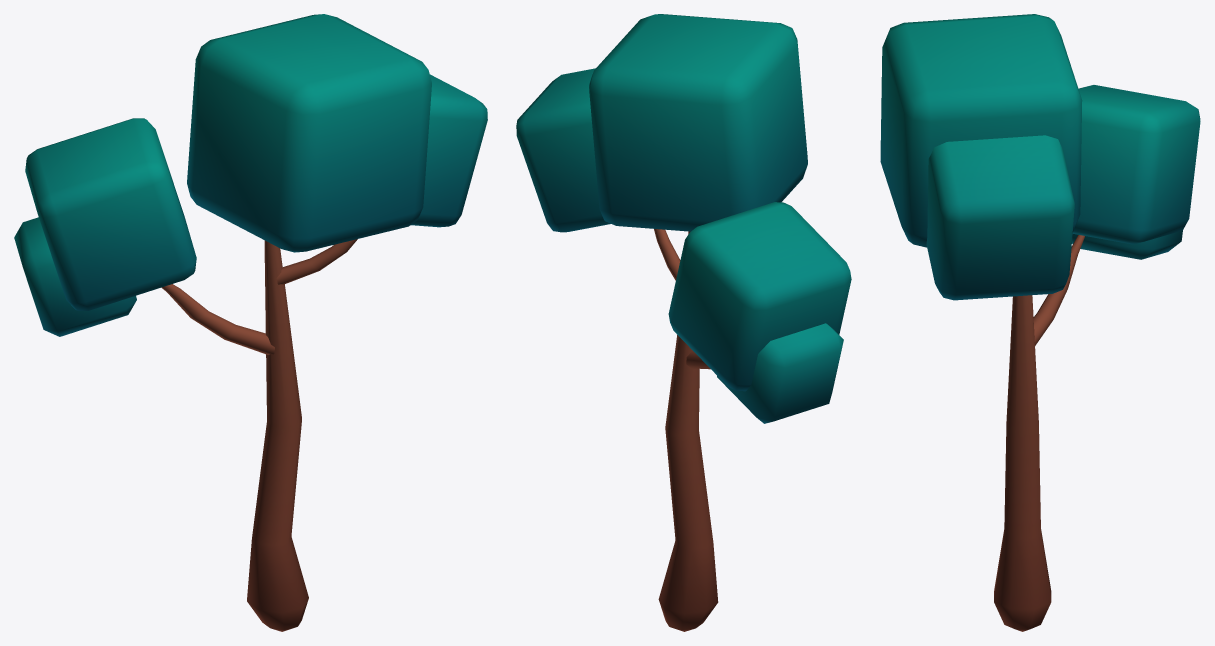
The model's file is Tree_2_C_Color4.fbx.
3 views of the same model, side by side, from view 1: azimuth 30°, elevation 25°; view 2: azimuth 150°, elevation 25°; view 3: azimuth 270°, elevation 25° (orthographic). The views are drawn at different scales.
Parts seen in each view (by area): view 1: Tree_2_C_Color4; view 2: Tree_2_C_Color4; view 3: Tree_2_C_Color4.
Boxes of the visible parts, <box> form: Tree_2_C_Color4: <box>14,14,487,631</box>; Tree_2_C_Color4: <box>516,14,851,631</box>; Tree_2_C_Color4: <box>880,14,1200,631</box>.
Size of the model in its own units: 4.6 by 6.92 by 3.4.
